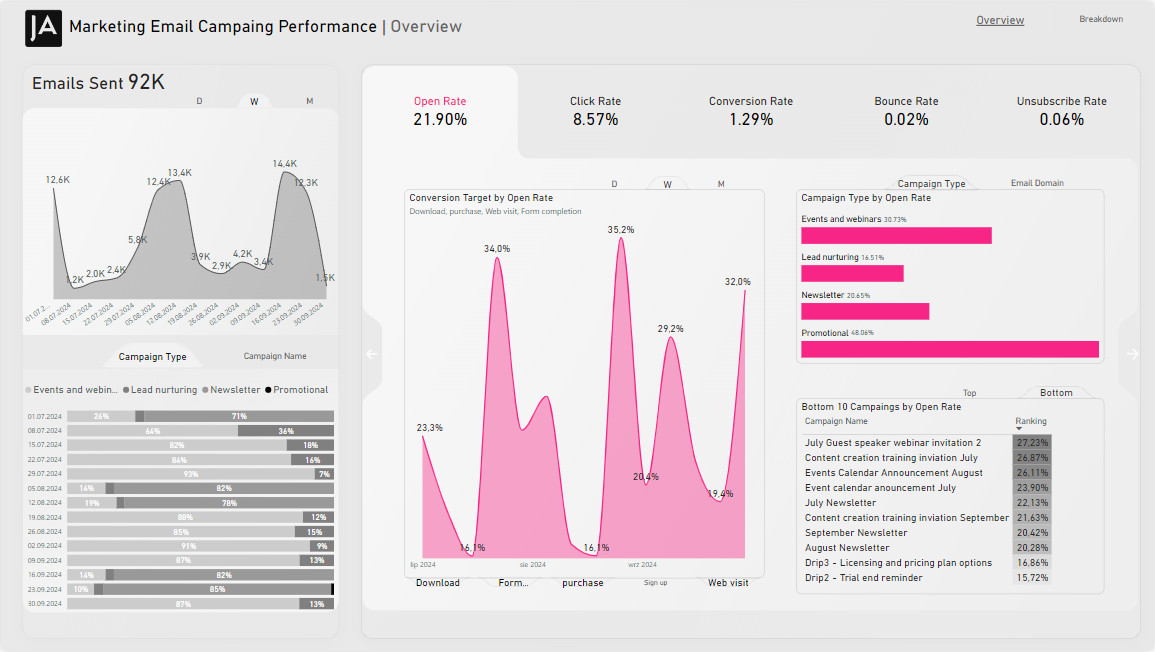

The dashboard page shown, as its layout file describes it:
{"tool":"powerbi","page":{"name":"Overview","canvas":[1920,1080],"ordinal":0},"visuals":[{"type":"cardVisual","fields":{"Data":["Measures Table.Image URL"]},"box":[571.4,44.3,1340,1035.7],"z":0},{"type":"advancedSlicerVisual","fields":{"Values":["hlp_TopBottom.Value"]},"box":[1536.7,630,300,41.7],"z":0,"group":"g1"},{"type":"hundredPercentStackedBarChart","title":"Sent Emails by Campaign Type","fields":{"Series":["fctEmail.Campaign Type"],"Y":["Measures Table.No Sent"],"Category":["hlp_Dynamic Date Selections 2.Visual Date"]},"box":[33.3,623.3,526.7,403.3],"z":1000},{"type":"advancedSlicerVisual","fields":{"Values":["fctEmail.Conversion Target"]},"box":[666.7,935.6,610.8,65.8],"z":1000,"group":"g1"},{"type":"lineChart","fields":{"Y":["Measures Table.Open Rate"],"Category":["hlp_Dynamic Date Selections.Visual Date"]},"box":[672.4,312.4,601.4,648.6],"z":2000,"group":"g1"},{"type":"cardVisual","fields":{"Data":["Measures Table.No Sent"]},"box":[193.3,86.7,161.7,76.7],"z":2000},{"type":"lineChart","fields":{"Y":["Measures Table.No Sent"],"Category":["hlp_Dynamic Date Selections 2.Visual Date"]},"box":[33.3,186.7,528.3,376.7],"z":3000},{"type":"tableEx","fields":{"Values":["fctEmail.Campaign Name","Measures Table.Open Rate Rank"]},"box":[1324.7,660.4,514.3,327.1],"z":3000,"group":"g1"},{"type":"clusteredBarChart","fields":{"Category":["fctEmail.Campaign Type"],"Y":["Measures Table.Placeholder","Measures Table.Open Rate"]},"box":[1324.7,311.8,514.3,291.4],"z":4000,"group":"g1"},{"type":"advancedSlicerVisual","fields":{"Values":["hlp_Dynamic Date Selections.Type"]},"box":[976,276.7,271,51],"z":5000,"group":"g1"},{"type":"advancedSlicerVisual","fields":{"Values":["hlp_Dynamic Date Selections 2.Type"]},"box":[283.3,138.3,278.3,51.7],"z":5000},{"type":"advancedSlicerVisual","fields":{"Values":["hlp_Category 2.hlp_Category 2"]},"box":[1457.8,280.1,363.6,42.7],"z":6000,"group":"g1"},{"type":"advancedSlicerVisual","fields":{"Values":["hlp_Category.hlp_Category"]},"box":[150,563.3,410,51.7],"z":6000},{"type":"textbox","box":[108.3,18.3,680,51.7],"z":7000},{"type":"image","box":[35,0,73.3,88.3],"z":8000},{"type":"textbox","box":[46.7,113.3,180,51.7],"z":9000},{"type":"advancedSlicerVisual","fields":{"Values":["hlp_Kpi Selection.hlp_Kpi Selection"]},"box":[601.7,103.3,1301.7,156.7],"z":10000},{"type":"actionButton","box":[605,566.7,26.7,40],"z":11000},{"type":"actionButton","box":[1871.7,566.7,28.3,40],"z":12000},{"type":"group","id":"g1","title":"Main","box":[666.7,276.7,1172.3,724.8],"z":13000},{"type":"pageNavigator","box":[1586.7,0,326.7,58.3],"z":16000}]}

Visuals, with their boxes in screenshot pixels (x1, y1, x2, y2), scaled from the page's 1920x1080 canvas onto the 1155x652 screenshot:
cardVisual - Measures Table.Image URL: (left=344, top=27, right=1150, bottom=651)
advancedSlicerVisual - hlp_TopBottom.Value: (left=924, top=380, right=1105, bottom=406)
"Sent Emails by Campaign Type" hundredPercentStackedBarChart: (left=20, top=376, right=337, bottom=620)
advancedSlicerVisual - fctEmail.Conversion Target: (left=401, top=565, right=768, bottom=605)
lineChart - Measures Table.Open Rate x hlp_Dynamic Date Selections.Visual Date: (left=404, top=189, right=766, bottom=580)
cardVisual - Measures Table.No Sent: (left=116, top=52, right=214, bottom=99)
lineChart - Measures Table.No Sent x hlp_Dynamic Date Selections 2.Visual Date: (left=20, top=113, right=338, bottom=340)
tableEx - fctEmail.Campaign Name x Measures Table.Open Rate Rank: (left=797, top=399, right=1106, bottom=596)
clusteredBarChart - fctEmail.Campaign Type x Measures Table.Placeholder: (left=797, top=188, right=1106, bottom=364)
advancedSlicerVisual - hlp_Dynamic Date Selections.Type: (left=587, top=167, right=750, bottom=198)
advancedSlicerVisual - hlp_Dynamic Date Selections 2.Type: (left=170, top=83, right=338, bottom=115)
advancedSlicerVisual - hlp_Category 2.hlp_Category 2: (left=877, top=169, right=1096, bottom=195)
advancedSlicerVisual - hlp_Category.hlp_Category: (left=90, top=340, right=337, bottom=371)
textbox: (left=65, top=11, right=474, bottom=42)
image: (left=21, top=0, right=65, bottom=53)
textbox: (left=28, top=68, right=136, bottom=100)
advancedSlicerVisual - hlp_Kpi Selection.hlp_Kpi Selection: (left=362, top=62, right=1145, bottom=157)
actionButton: (left=364, top=342, right=380, bottom=366)
actionButton: (left=1126, top=342, right=1143, bottom=366)
"Main" group: (left=401, top=167, right=1106, bottom=605)
pageNavigator: (left=954, top=0, right=1151, bottom=35)
